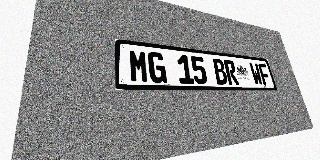1: (176, 54, 194, 84)
5: (190, 56, 208, 84)
B: (212, 58, 228, 85)
F: (257, 63, 272, 85)
G: (147, 51, 167, 83)
M: (128, 49, 149, 83)
R: (223, 60, 239, 85)
W: (249, 62, 264, 85)
